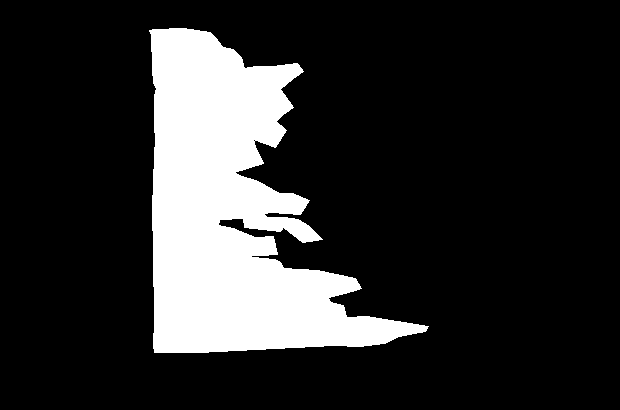type2: (145, 25, 430, 356)
